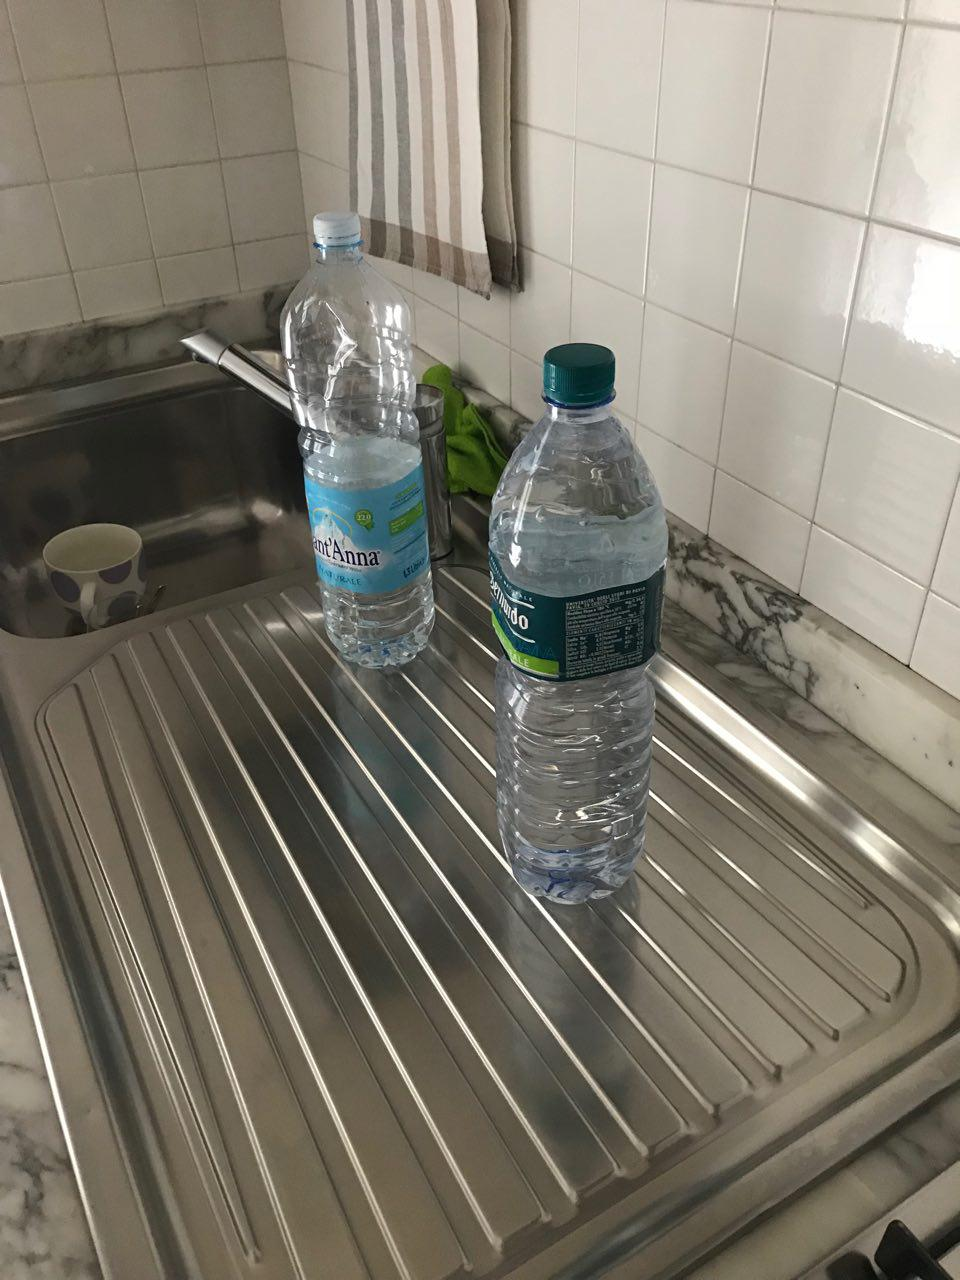san_bernardo: (487, 343, 669, 904)
